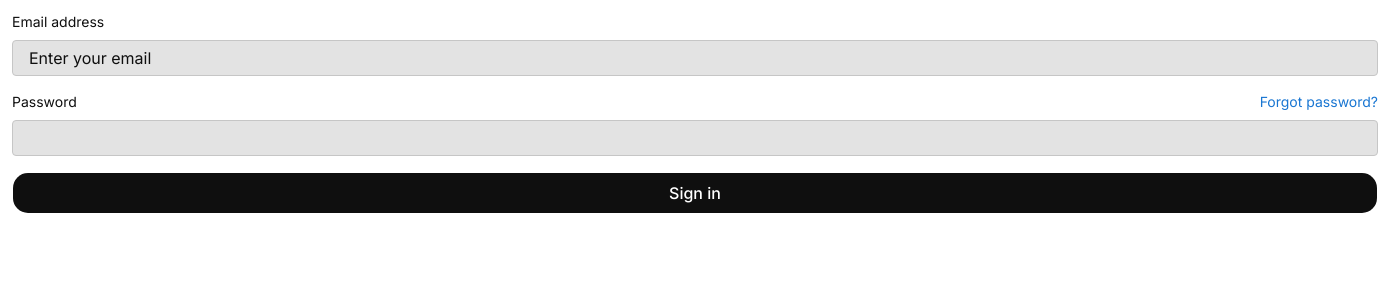
Test: <LoginForm /> wiring › maps a 403 to an email-not-confirmed alert with a resend CTA
Step 1. Type "alice@example.com" into the field labelled "Email address" → (695, 58), box x1=12 y1=40 x2=1378 y2=76
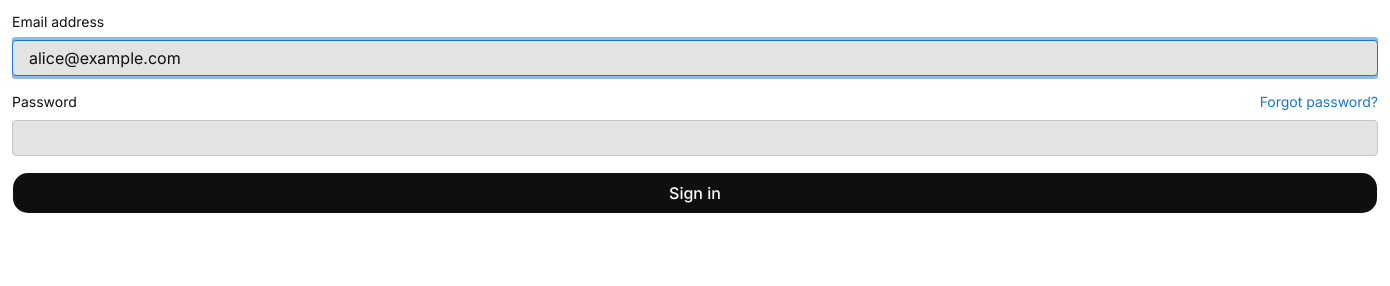
Step 2. Type "secret123" into the password field labelled "Password" → (695, 138), box x1=12 y1=120 x2=1378 y2=156
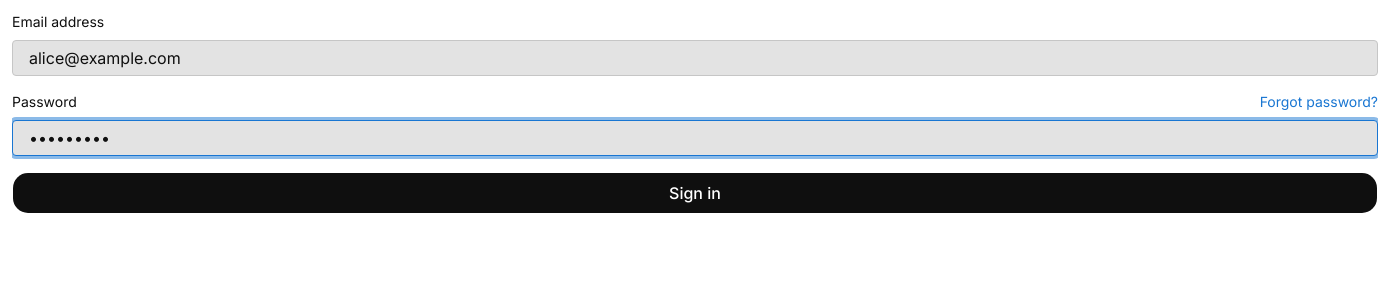
Step 3. Click the button "Sign in" → click(695, 193), box x1=12 y1=172 x2=1378 y2=214
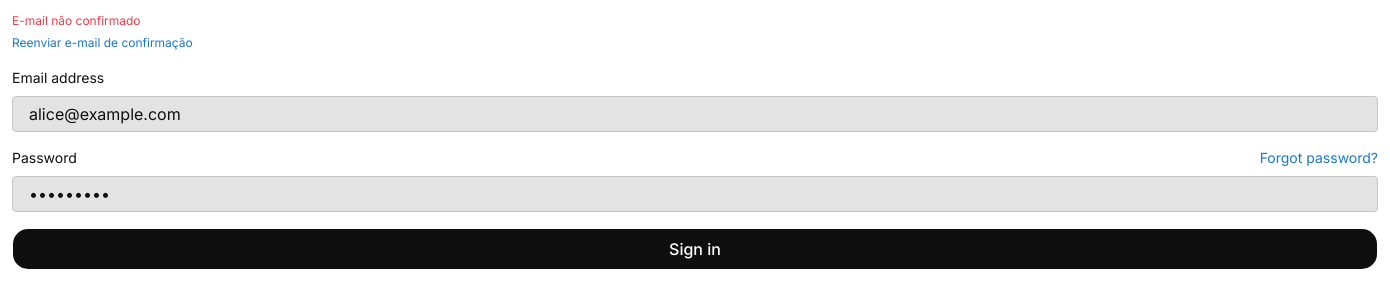
Now the message shows "E-mail não confirmado", box x1=12 y1=13 x2=141 y2=28
Now the link "Reenviar e-mail de confirmação" is shown, box x1=12 y1=35 x2=193 y2=50
